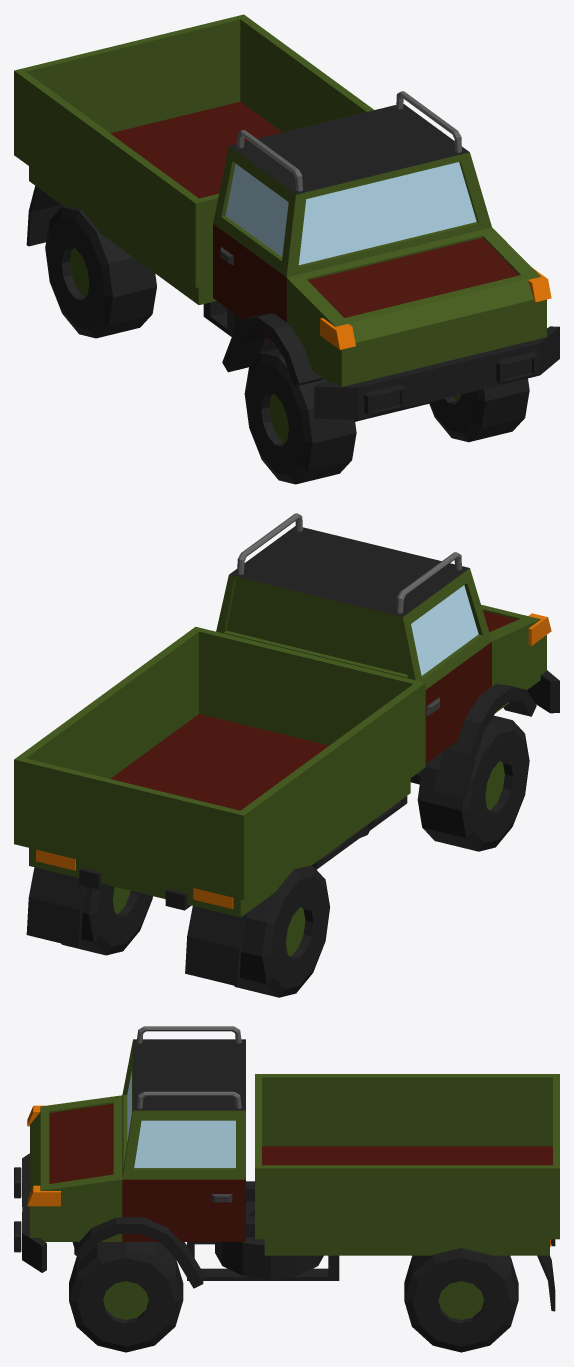
Rendered from scene_NOom8SBCSx.glb.
3 renders of one model, top to bottom at view 1: azimuth 30°, elevation 25°; view 2: azimuth 150°, elevation 25°; view 3: azimuth 270°, elevation 25°, orthographic. The views are drawn at different scales.
Visible parts, largest first — view 1: Scout_Car; view 2: Scout_Car; view 3: Scout_Car.
Part boxes in pixels (left/top/right/bottom): Scout_Car: left=14, top=14, right=559, bottom=484; Scout_Car: left=14, top=513, right=559, bottom=997; Scout_Car: left=14, top=1026, right=559, bottom=1352.
Size of the model in its own units: 1.94 by 2.23 by 4.43.
